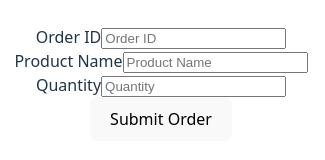
Scenario: shows an error message for empty fields
Note: Simulate clicking the submit button with empty fields
Click the button "Submit Order" at (161, 119), box [90,97,232,141]
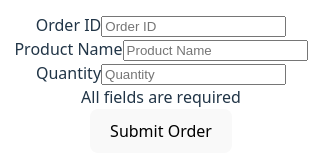
Now the text "All fields are required" is shown, box [81,86,241,108]
